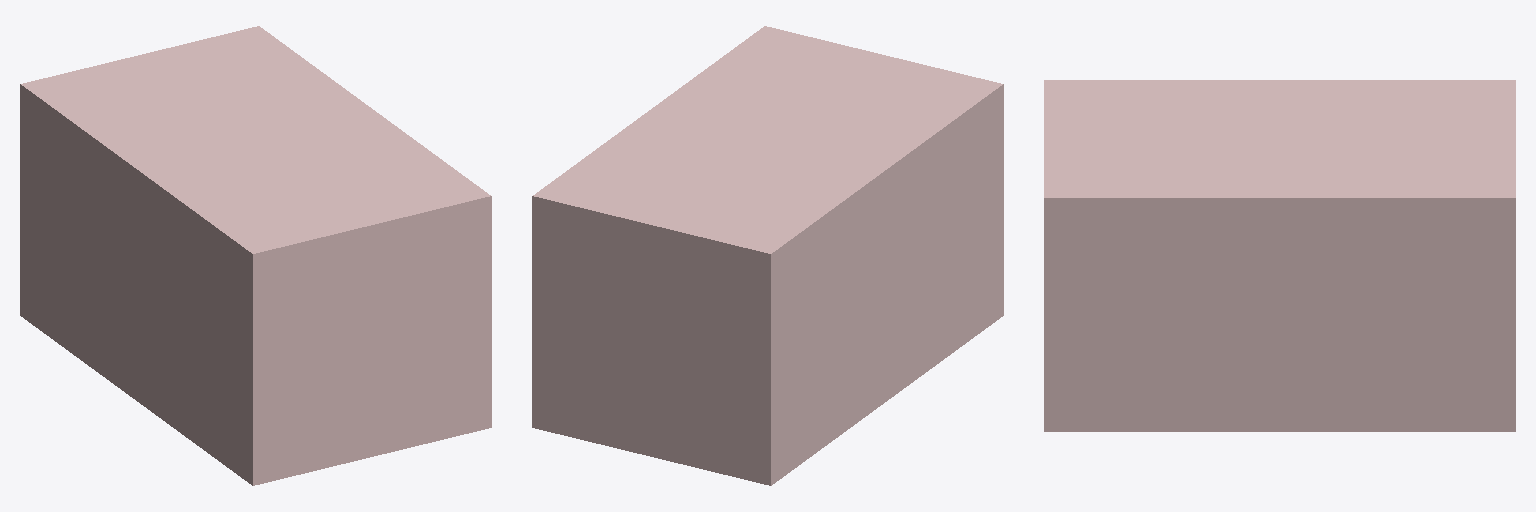
robot.urdf — box.urdf:
<?xml version="1.0" ?>
<robot name="box.urdf">
  <link name="baseLink">
    <contact>
      <lateral_friction value="1.0"/>
      <rolling_friction value="0.0001"/>
      <inertia_scaling value="3.0"/>
    </contact>
    <inertial>
      <origin rpy="0 0 0" xyz="0 0 0"/>
       <mass value="0.1"/>
       <inertia ixx="1" ixy="0" ixz="0" iyy="1" iyz="0" izz="1"/>
    </inertial>
    <visual>
      <origin rpy="0 0 0" xyz="0 0 0"/>
      <geometry>
        <!-- <box size="0.294 0.496 0.273"/> -->
        <mesh filename="box/box.obj" scale="0.294 0.496 0.273"/>
      </geometry>
      <material name="white">
        <color rgba="0.9 0.8 0.8 1"/>
      </material>
    </visual>
    <collision>
      <origin rpy="0 0 0" xyz="0 0 0"/>
      <geometry>
        <mesh filename="box/box.obj" scale="0.294 0.496 0.273"/>
	 	    <!-- <box size="0.294 0.496 0.273"/> -->
      </geometry>
    </collision>
  </link>
</robot>

--- Facts derived from the render (not from the file) ---
Views: 3 orthographic renders of the robot side by side, from view 1: azimuth 30°, elevation 25°; view 2: azimuth 150°, elevation 25°; view 3: azimuth 270°, elevation 25°.
Model box.urdf with 1 links and 0 joints (none), rooted at baseLink, posed every joint at zero.
Visible links, largest first — view 1: baseLink; view 2: baseLink; view 3: baseLink.
Link boxes in pixels (<box>): baseLink: <box>20,26,491,485</box>; baseLink: <box>532,26,1003,485</box>; baseLink: <box>1044,80,1515,431</box>.
Bounding box of the posed robot: 0.294 × 0.496 × 0.273 m (x, y, z).
1 mesh visuals loaded from 1 distinct referenced files (1 OBJ).
